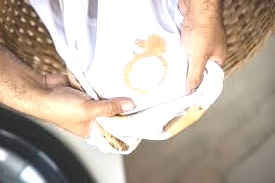coffee: (131, 34, 168, 60), (122, 59, 133, 90), (157, 59, 168, 89)
